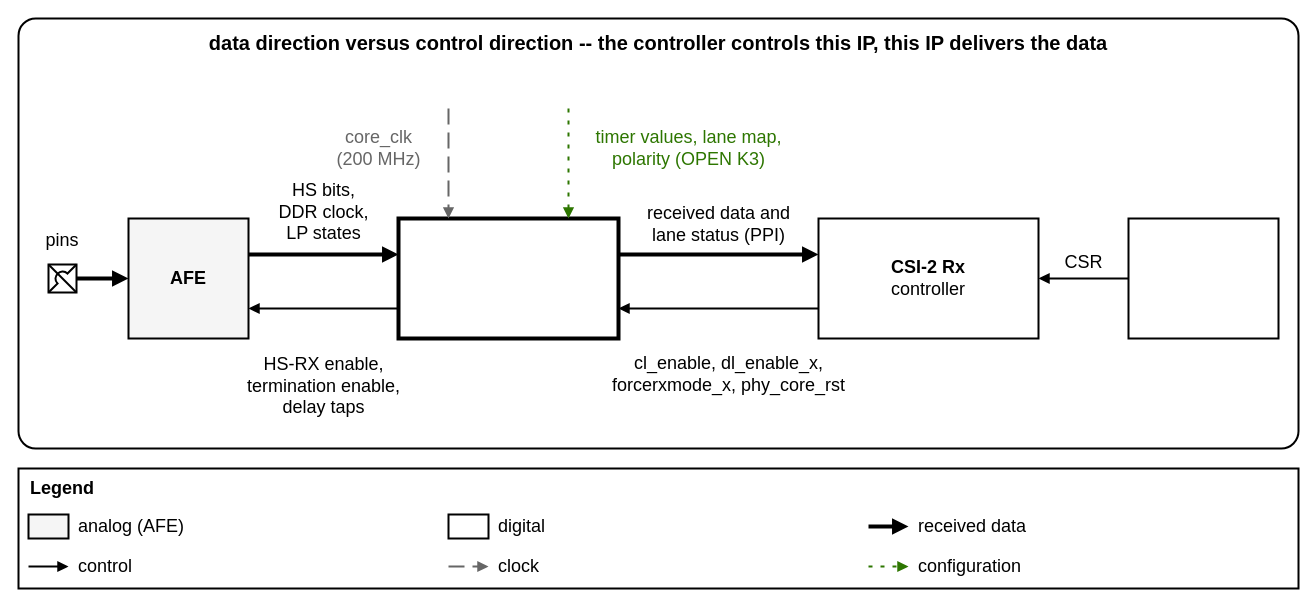
This 1316x606 diagram has some shape labels left out. The shapes that lost their labels are listed below. From the top down, each one's centre as x and y in pixels, then its label:
At pixel 508 278: "ftel_dphy_rx (this IP)".
At pixel 1203 278: "software (AXI4-Lite CSR)".
